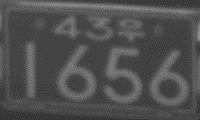1: (15, 40, 49, 100)
3: (85, 15, 114, 42)
4: (53, 12, 81, 41)
5: (102, 45, 144, 104)
6: (54, 43, 98, 103), (147, 47, 190, 108)
우: (117, 16, 146, 43)
